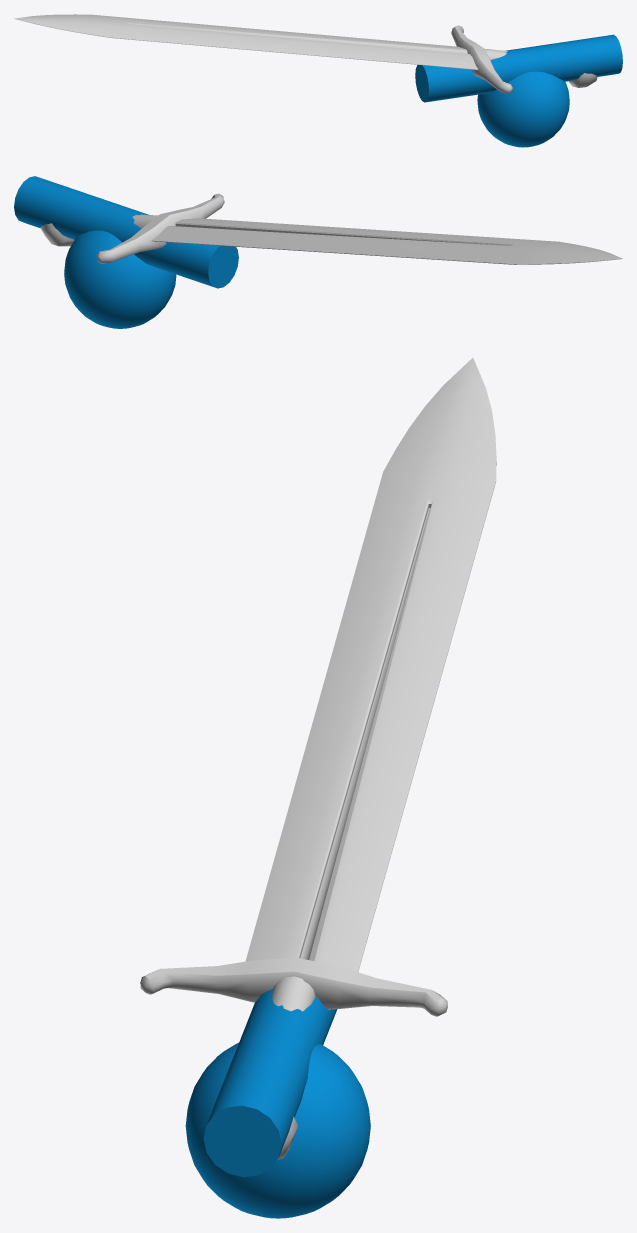
3 renders of one model, top to bottom at view 1: azimuth 30°, elevation 25°; view 2: azimuth 150°, elevation 25°; view 3: azimuth 270°, elevation 25°, orthographic. The views are drawn at different scales.
Visible parts, largest first — view 1: sword, stick, sphere; view 2: sword, stick, sphere; view 3: sword, sphere, stick.
Part boxes in pixels (x1,y1,x2,y2): sword: (14, 14, 597, 93); stick: (415, 34, 622, 102); sphere: (477, 71, 569, 147); sword: (40, 193, 622, 264); stick: (14, 176, 238, 288); sphere: (64, 230, 176, 328); sword: (140, 358, 496, 1160); sphere: (185, 1042, 370, 1218); stick: (203, 989, 337, 1176).
Size of the model in its own units: 0.6443 by 0.2266 by 0.1816.
